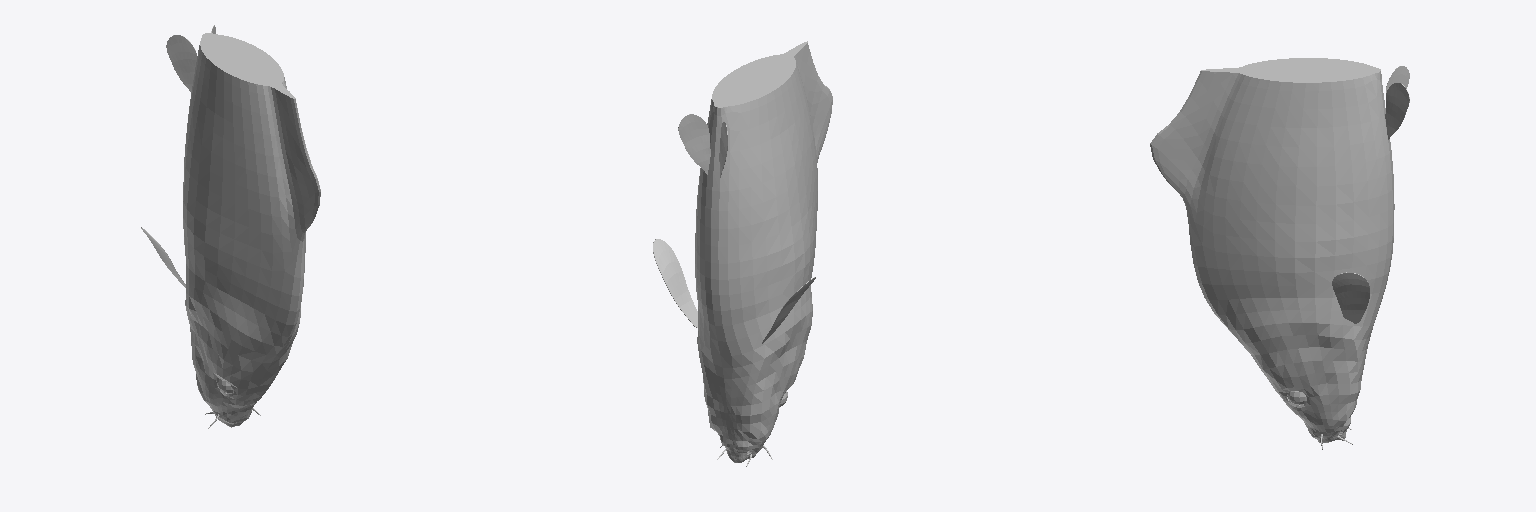
File: Fish_Front.obj
3 views of the same model, side by side, from view 1: azimuth 30°, elevation 25°; view 2: azimuth 150°, elevation 25°; view 3: azimuth 270°, elevation 25° (orthographic).
Parts seen in each view (by area): view 1: front; view 2: front; view 3: front.
Part boxes in pixels (bbox=[...]): front: bbox=[141, 25, 320, 428]; front: bbox=[653, 41, 832, 466]; front: bbox=[1150, 58, 1409, 449].
Size of the model in its own units: 1.15 by 2.58 by 1.64.